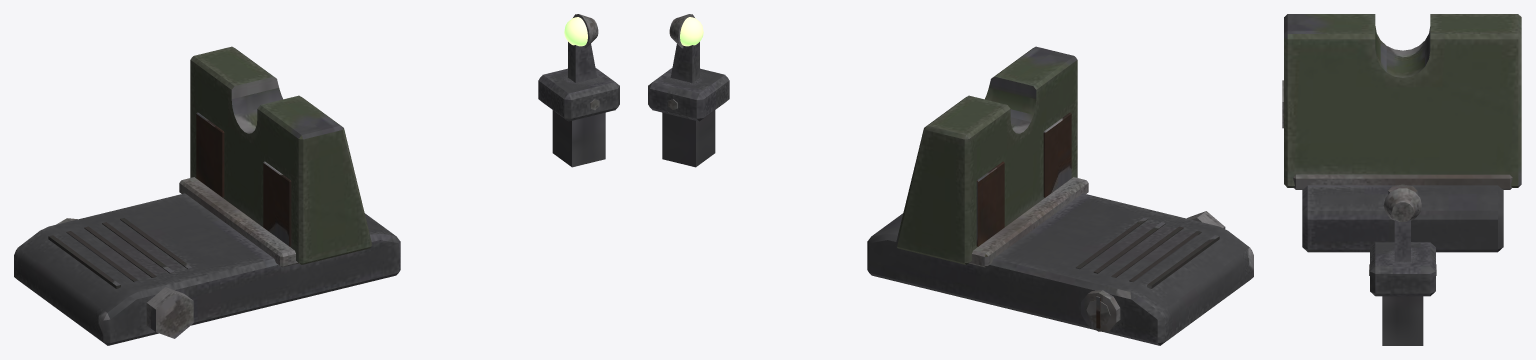
File: foxfire_post.glb
The picture shows the model from 3 angles, left to right: view 1: azimuth 30°, elevation 25°; view 2: azimuth 150°, elevation 25°; view 3: azimuth 270°, elevation 25°; orthographic projection. The views are drawn at different scales.
Parts seen in each view (by area): view 1: foxfire_post, PostBlade, PostStem, Reticle; view 2: foxfire_post, PostBlade, PostStem, Reticle; view 3: foxfire_post, PostBlade, PostStem.
Boxes of the visible parts, <box> form: foxfire_post: <box>14,46,400,345</box>; PostBlade: <box>538,14,619,121</box>; PostStem: <box>552,72,605,167</box>; Reticle: <box>564,17,587,46</box>; foxfire_post: <box>867,46,1253,345</box>; PostBlade: <box>648,14,729,121</box>; PostStem: <box>662,72,715,167</box>; Reticle: <box>680,17,703,46</box>; foxfire_post: <box>1282,14,1521,252</box>; PostBlade: <box>1369,188,1436,296</box>; PostStem: <box>1382,245,1423,345</box>.
Size of the model in its own units: 0.0738 by 0.0222 by 0.0262.
Materials: 2 (1 with a texture image).
